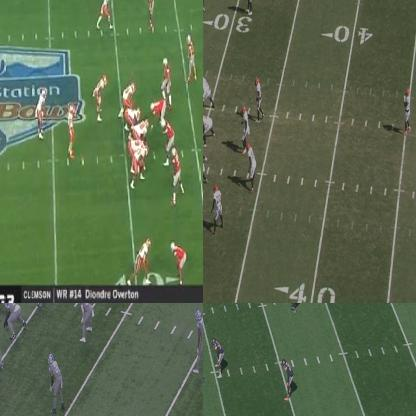CENTER: (130, 117, 152, 143)
DB: (48, 354, 63, 412), (169, 243, 185, 276), (194, 306, 202, 370), (142, 0, 155, 32), (186, 36, 196, 77), (284, 359, 294, 400), (213, 184, 222, 228), (257, 78, 264, 124), (404, 91, 410, 132), (244, 0, 254, 14), (289, 303, 300, 312)
LB: (75, 303, 95, 346), (246, 144, 258, 187), (214, 338, 226, 374), (239, 104, 249, 142), (203, 73, 212, 108)
QB: (67, 104, 78, 156)
SKILL: (130, 236, 151, 282), (93, 75, 107, 120), (35, 89, 47, 132), (97, 0, 111, 27)
